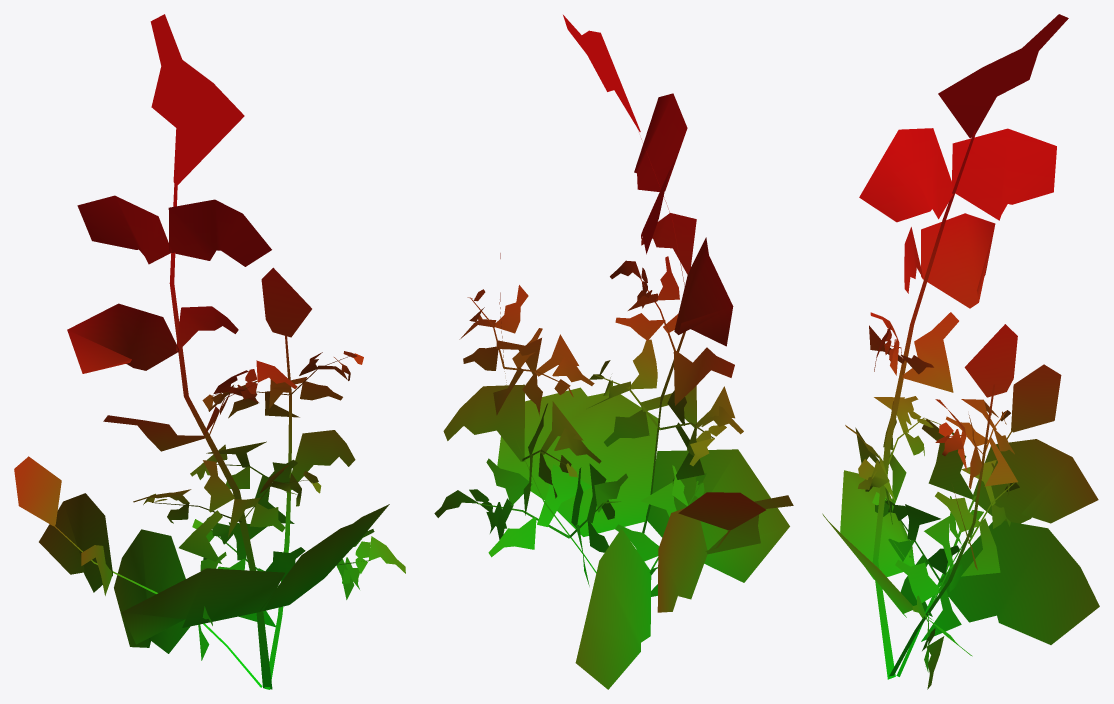
Rendered from White Ramping Fumitory_LOD3_Var4_ti4efc3ia.fbx.
3 views of the same model, side by side, from view 1: azimuth 30°, elevation 25°; view 2: azimuth 150°, elevation 25°; view 3: azimuth 270°, elevation 25° (orthographic). The views are drawn at different scales.
Parts seen in each view (by area): view 1: _19c0_Var4_LOD3; view 2: _19c0_Var4_LOD3; view 3: _19c0_Var4_LOD3.
Part boxes in pixels (left/top/right/bottom): _19c0_Var4_LOD3: left=14, top=14, right=405, bottom=689; _19c0_Var4_LOD3: left=434, top=15, right=793, bottom=689; _19c0_Var4_LOD3: left=822, top=14, right=1099, bottom=689.
Bounding box in the file's own units: 28.86 × 49.36 × 19.06.
